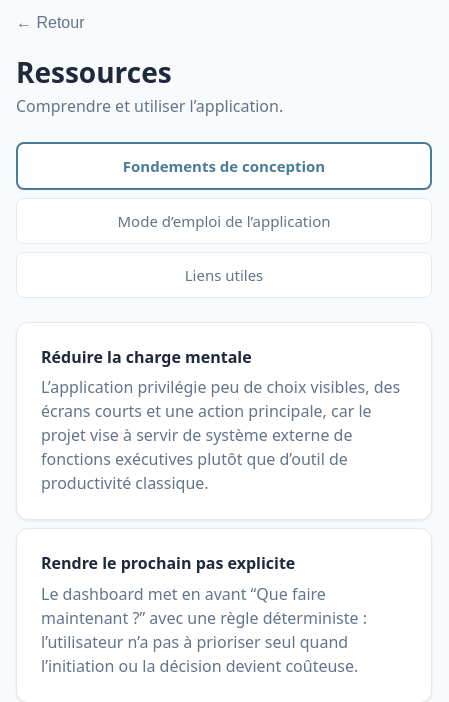
E120Resources › affiche les liens utiles en cours de développement
Step 1. Click the button "Liens utiles" → (224, 275), box [16, 252, 432, 298]
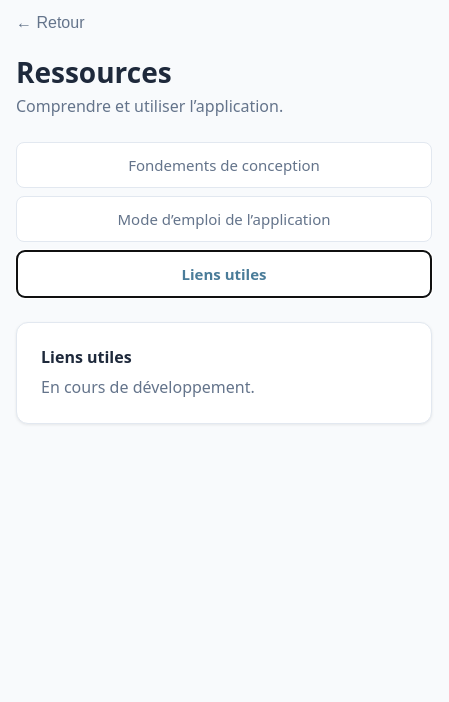
Now the text "En cours de développement." is shown, box [41, 376, 255, 398]
